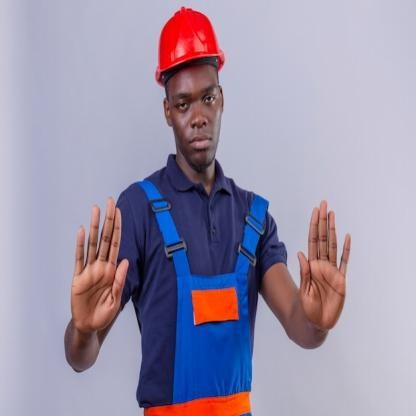stop: (68, 193, 132, 334), (294, 194, 352, 332)
